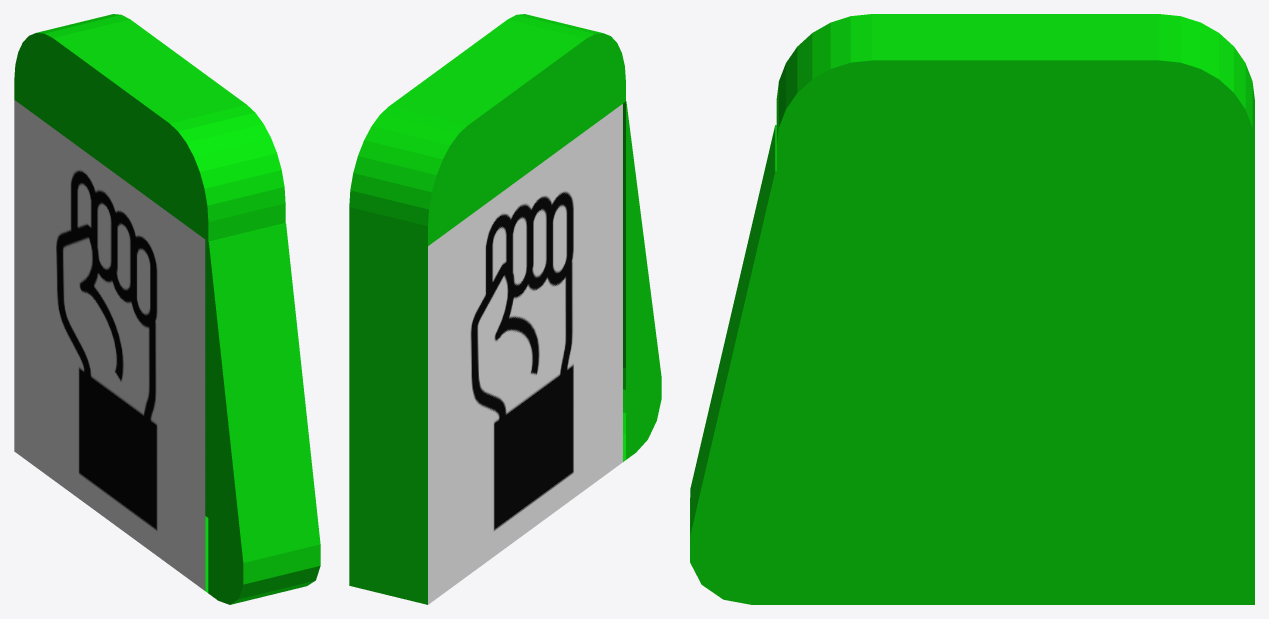
The model's file is Powerup_attackspeed.fbx.
3 views of the same model, side by side, from view 1: azimuth 30°, elevation 25°; view 2: azimuth 150°, elevation 25°; view 3: azimuth 270°, elevation 25° (orthographic). The views are drawn at different scales.
Visible parts, largest first — view 1: Cube.001; view 2: Cube.001; view 3: Cube.001.
Part boxes in pixels (left/top/right/bottom): Cube.001: left=14, top=14, right=320, bottom=604; Cube.001: left=349, top=14, right=661, bottom=604; Cube.001: left=690, top=14, right=1254, bottom=604.
Size of the model in its own units: 45.96 by 251 by 236.
Materials: 2 (1 with a texture image).
